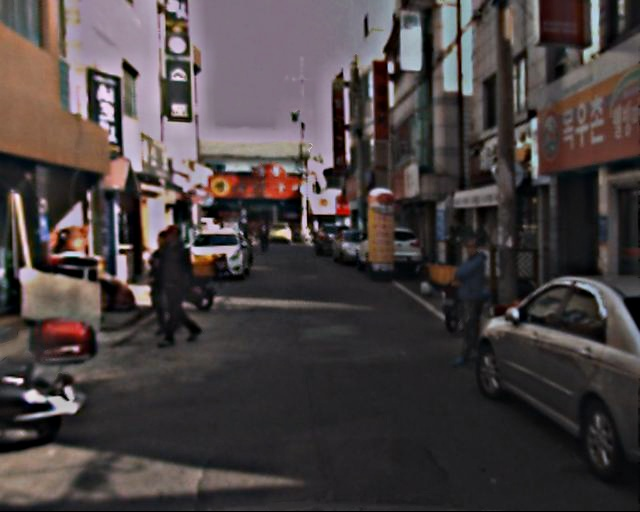person: (444, 235, 500, 368), (150, 226, 204, 345), (258, 221, 273, 256)
